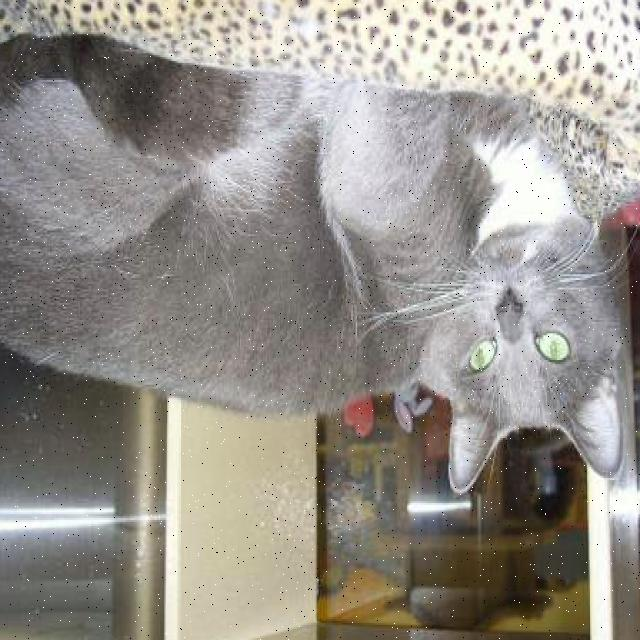Cat: (426, 208, 628, 494)
